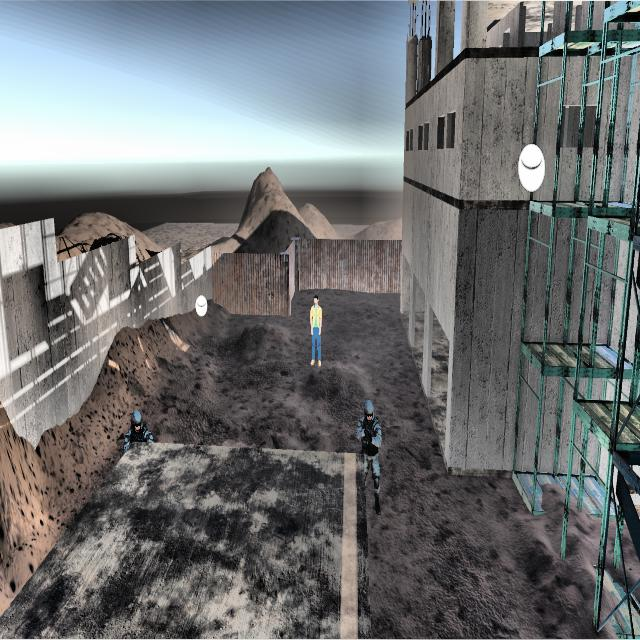bad: (354, 389, 388, 520), (123, 403, 153, 454)
good: (305, 288, 327, 372)
